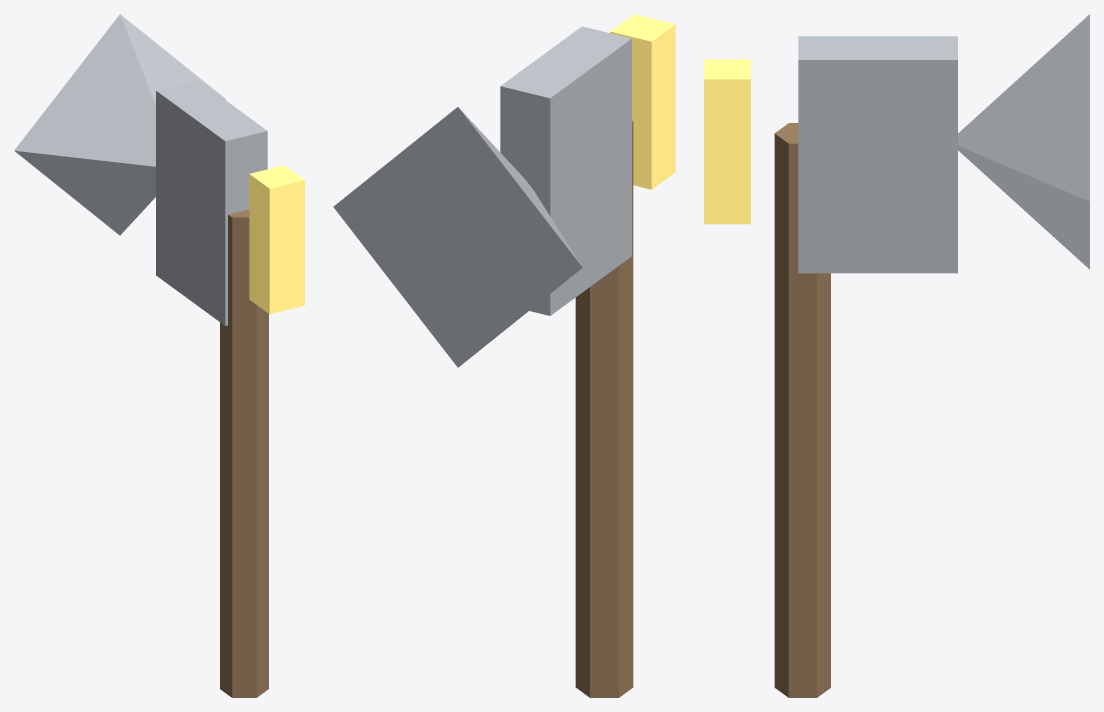
The model's file is axe.glb.
The picture shows the model from 3 angles, left to right: view 1: azimuth 30°, elevation 25°; view 2: azimuth 150°, elevation 25°; view 3: azimuth 270°, elevation 25°; orthographic projection. The views are drawn at different scales.
Parts seen in each view (by area): view 1: AxeHandle; view 2: AxeHandle; view 3: AxeHandle.
Boxes of the visible parts, box(x1,y1,x2,y2) form: AxeHandle: box(14, 14, 304, 697); AxeHandle: box(333, 14, 675, 697); AxeHandle: box(704, 14, 1089, 697).
Size of the model in its own units: 0.6 by 1.58 by 0.82.
